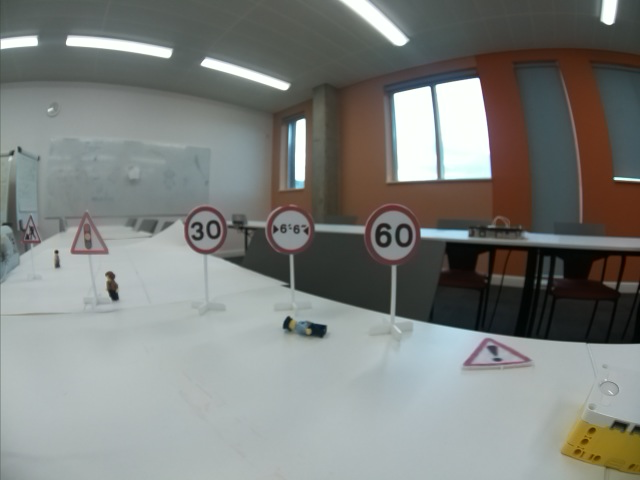30mph: (184, 205, 228, 254)
60mph: (363, 202, 421, 266)
6ft6: (263, 204, 315, 255)
Lego Man: (281, 315, 328, 338), (104, 271, 120, 303), (52, 249, 63, 271)
Roadworks: (23, 216, 39, 242)
Traffic lights: (69, 211, 111, 254)
Warning: (461, 337, 537, 368)
